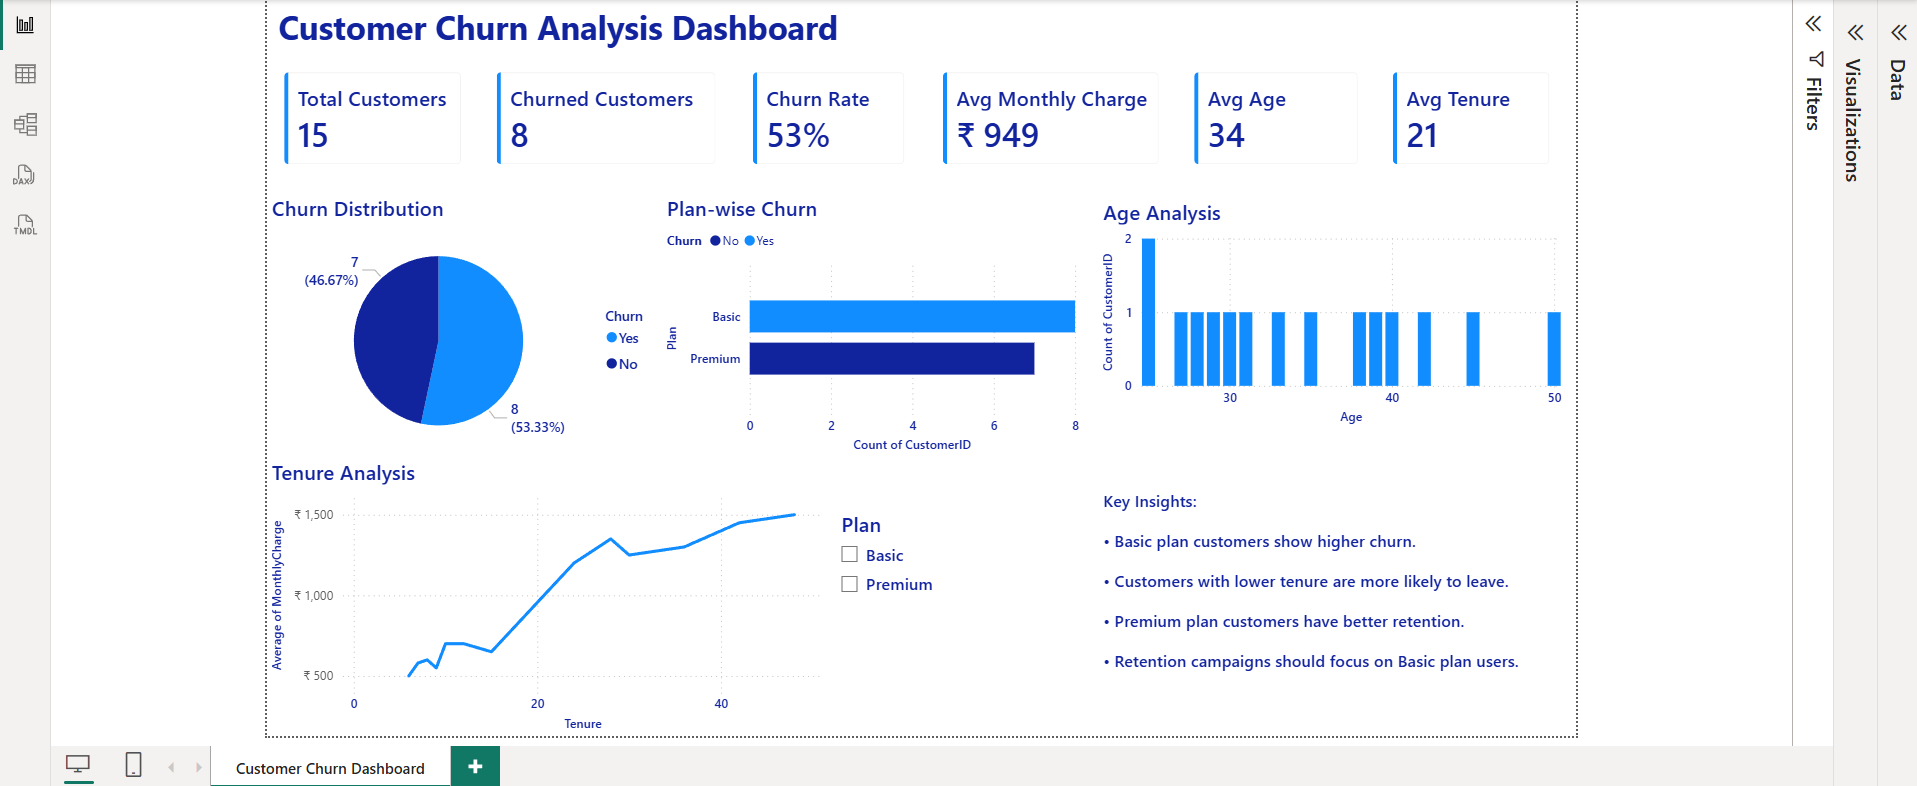

Layout of this report page (visuals, bound fields, positions):
{"tool":"powerbi","page":{"name":"Customer Churn Dashboard","canvas":[1280,720],"ordinal":0},"visuals":[{"type":"textbox","box":[0,0,569.8,63.6],"z":0},{"type":"cardVisual","fields":{"Data":["CountNonNull(customers_clean.CustomerID)"]},"box":[0,53.8,207.9,124.7],"z":1000},{"type":"cardVisual","fields":{"Data":["CountNonNull(customers_clean.CustomerID)"]},"box":[207.9,53.8,248.2,124.7],"z":2000},{"type":"cardVisual","fields":{"Data":["customers_clean.Churn Rate"]},"box":[458.6,53.8,182.2,124.7],"z":3000},{"type":"cardVisual","fields":{"Data":["Avg(customers_clean.MonthlyCharge)"]},"box":[644.4,53.8,245.8,124.7],"z":4000},{"type":"cardVisual","fields":{"Data":["Avg(customers_clean.Age)"]},"box":[890.2,53.8,194.4,124.7],"z":5000},{"type":"cardVisual","fields":{"Data":["Avg(customers_clean.Tenure)"]},"box":[1084.7,53.8,187.1,124.7],"z":6000},{"type":"pieChart","title":"Churn Distribution","fields":{"Category":["customers_clean.Churn"],"Y":["CountNonNull(customers_clean.CustomerID)"]},"box":[0,189.5,395,261.7],"z":7000},{"type":"barChart","title":"Plan-wise Churn","fields":{"Category":["customers_clean.Plan"],"Y":["CountNonNull(customers_clean.CustomerID)"],"Series":["customers_clean.Churn"]},"box":[386.4,189.5,413.3,258],"z":8000},{"type":"clusteredColumnChart","title":"Age Analysis","fields":{"Category":["customers_clean.Age"],"Y":["CountNonNull(customers_clean.CustomerID)"]},"box":[813.2,193.2,458.6,227.4],"z":9000},{"type":"lineChart","title":"Tenure Analysis","fields":{"Category":["customers_clean.Tenure"],"Y":["Avg(customers_clean.MonthlyCharge)"]},"box":[0,447.6,549.1,272.7],"z":10000},{"type":"slicer","fields":{"Values":["customers_clean.Plan"]},"box":[549.1,494,250.7,207.9],"z":11000},{"type":"textbox","box":[813.2,473.2,443.9,247],"z":12000}]}

Visuals, with their boxes on the page's 1280x720 design canvas (x1, y1, x2, y2). These are canvas units, not pixel positions in the 1917x786 screenshot, which may show the page scaled, cropped or inside an application window:
textbox: [0, 0, 570, 64]
cardVisual - CountNonNull(customers_clean.CustomerID): [0, 54, 208, 178]
cardVisual - CountNonNull(customers_clean.CustomerID): [208, 54, 456, 178]
cardVisual - customers_clean.Churn Rate: [459, 54, 641, 178]
cardVisual - Avg(customers_clean.MonthlyCharge): [644, 54, 890, 178]
cardVisual - Avg(customers_clean.Age): [890, 54, 1085, 178]
cardVisual - Avg(customers_clean.Tenure): [1085, 54, 1272, 178]
"Churn Distribution" pieChart: [0, 190, 395, 451]
"Plan-wise Churn" barChart: [386, 190, 800, 448]
"Age Analysis" clusteredColumnChart: [813, 193, 1272, 421]
"Tenure Analysis" lineChart: [0, 448, 549, 720]
slicer - customers_clean.Plan: [549, 494, 800, 702]
textbox: [813, 473, 1257, 720]
